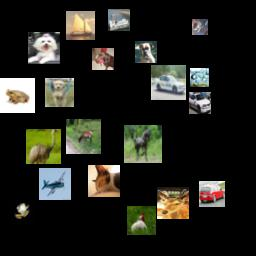airplane: (39, 168, 71, 200)
automobile: (151, 65, 186, 100), (199, 181, 225, 207), (189, 92, 211, 114)
bird: (26, 129, 61, 164), (127, 206, 156, 235)
cat: (88, 165, 120, 197), (192, 19, 208, 35)
deer: (66, 119, 101, 154), (157, 187, 189, 219)
dog: (28, 32, 60, 64), (45, 78, 74, 107), (92, 48, 114, 70), (135, 41, 157, 63)
frog: (0, 78, 35, 113), (9, 198, 35, 224)
ship: (66, 11, 95, 40), (108, 9, 130, 31)
